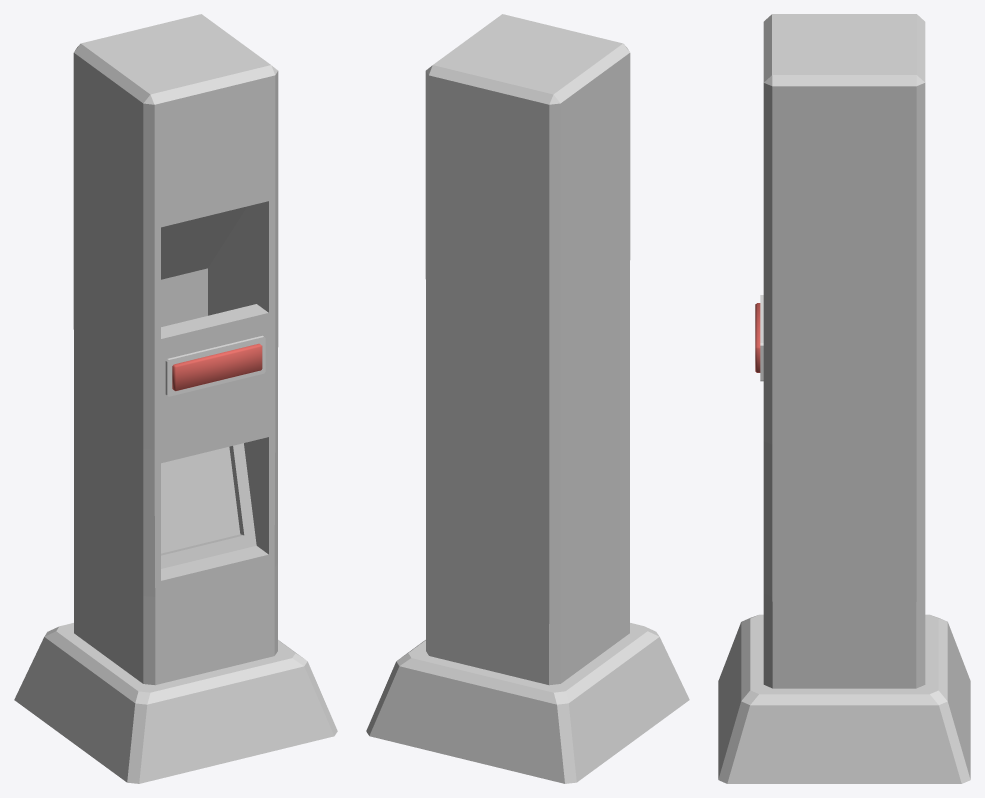
File: itemterminal.fbx
The picture shows the model from 3 angles, left to right: view 1: azimuth 30°, elevation 25°; view 2: azimuth 150°, elevation 25°; view 3: azimuth 270°, elevation 25°; orthographic projection. The views are drawn at different scales.
Parts seen in each view (by area): view 1: Cube.004, Cube.006, Cube.007; view 2: Cube.004; view 3: Cube.004, Cube.007.
Part boxes in pixels (box(x1,y1,x2,y2)): Cube.004: box(14, 14, 337, 783); Cube.006: box(161, 447, 240, 553); Cube.007: box(165, 335, 265, 396); Cube.004: box(366, 14, 689, 783); Cube.004: box(718, 14, 970, 783); Cube.007: box(755, 295, 763, 381).
Size of the model in its own units: 300 by 900 by 300.
